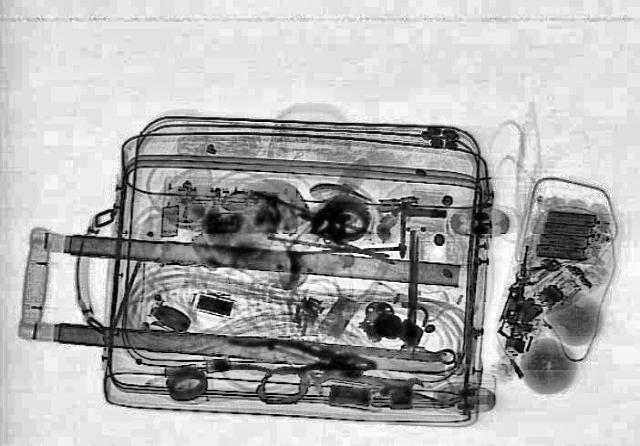Pliers: (214, 334, 380, 382)
